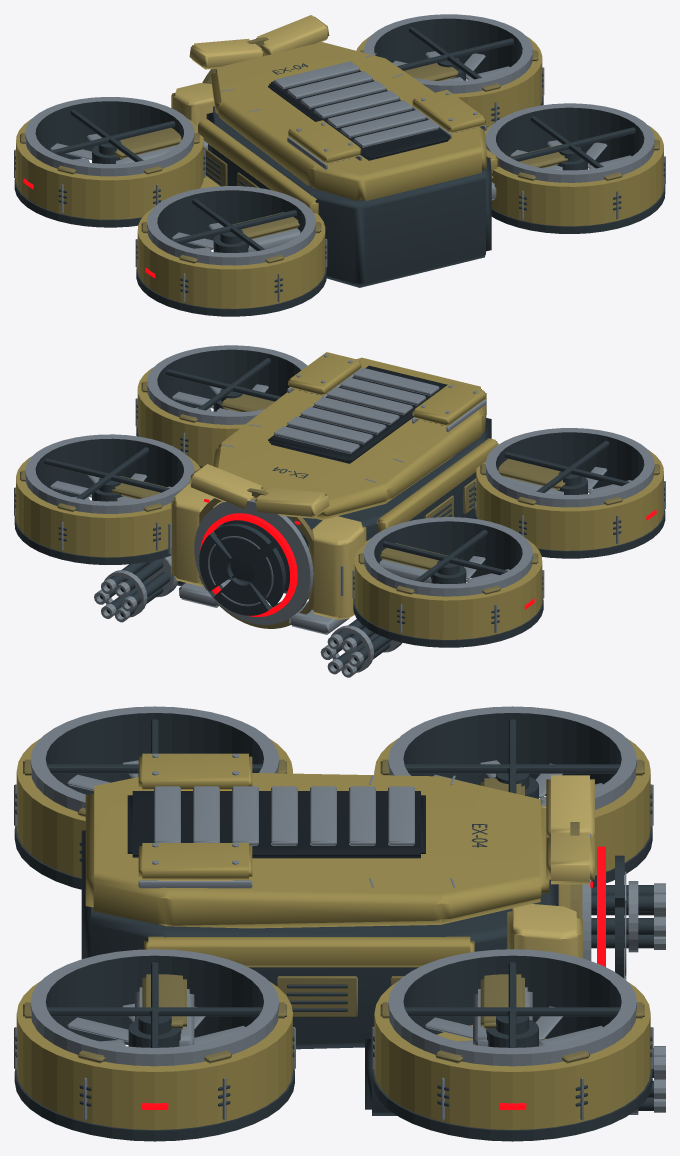
Rendered from exterminator-family.glb.
3 views of the same model, one above another, from view 1: azimuth 30°, elevation 25°; view 2: azimuth 150°, elevation 25°; view 3: azimuth 270°, elevation 25° (orthographic). The views are drawn at different scales.
Parts seen in each view (by area): view 1: EX_Chassis_EX_Armour, EX_Chassis_EX_Dark, EX_Fan_LB_EX_Armour, EX_Fan_RB_EX_Armour, EX_Fan_LF_EX_Armour, EX_Fan_RF_EX_Armour, EX_Chassis_EX_ArmourShade, EX_Fan_LB_EX_Dark, EX_Fan_RB_EX_Dark, EX_Chassis_EX_Rubber, EX_Fan_LF_EX_Dark, EX_Breakaway_L_EX_Armour (+17 smaller); view 2: EX_Chassis_EX_Armour, EX_Fan_LF_EX_Armour, EX_Fan_LB_EX_Armour, EX_Fan_RF_EX_Armour, EX_Fan_RB_EX_Armour, EX_Chassis_EX_Steel, EX_Chassis_EX_ArmourShade, EX_Cheek_-1_EX_ArmourLight, EX_Chassis_EX_Dark, EX_Fan_LF_EX_Dark, EX_Fan_RF_EX_Dark, EX_Chassis_EX_Rubber (+27 smaller); view 3: EX_Chassis_EX_Armour, EX_Fan_RB_EX_Armour, EX_Fan_RF_EX_Armour, EX_Fan_LF_EX_Armour, EX_Fan_LB_EX_Armour, EX_Chassis_EX_Dark, EX_Chassis_EX_Rubber, EX_Fan_RF_EX_Dark, EX_Fan_RB_EX_Dark, EX_Chassis_EX_ArmourShade, EX_Breakaway_R_EX_Armour, EX_Breakaway_L_EX_Armour (+26 smaller).
Boxes of the visible parts, x1,y1,x2,y2 form: EX_Chassis_EX_Armour: [198, 42, 498, 214]; EX_Chassis_EX_Dark: [205, 63, 491, 287]; EX_Fan_LB_EX_Armour: [137, 186, 325, 308]; EX_Fan_RB_EX_Armour: [485, 103, 663, 226]; EX_Fan_LF_EX_Armour: [16, 97, 203, 219]; EX_Fan_RF_EX_Armour: [356, 14, 542, 128]; EX_Chassis_EX_ArmourShade: [114, 37, 567, 239]; EX_Fan_LB_EX_Dark: [136, 198, 326, 316]; EX_Fan_RB_EX_Dark: [491, 116, 665, 233]; EX_Chassis_EX_Rubber: [268, 70, 450, 160]; EX_Fan_LF_EX_Dark: [14, 109, 204, 227]; EX_Breakaway_L_EX_Armour: [288, 120, 361, 163]; EX_Chassis_EX_Armour: [213, 357, 498, 532]; EX_Fan_LF_EX_Armour: [354, 517, 542, 639]; EX_Fan_LB_EX_Armour: [476, 428, 663, 550]; EX_Fan_RF_EX_Armour: [16, 434, 200, 557]; EX_Fan_RB_EX_Armour: [137, 345, 307, 466]; EX_Chassis_EX_Steel: [117, 369, 563, 634]; EX_Chassis_EX_ArmourShade: [112, 394, 565, 628]; EX_Cheek_-1_EX_ArmourLight: [308, 516, 366, 619]; EX_Chassis_EX_Dark: [216, 418, 491, 598]; EX_Fan_LF_EX_Dark: [353, 530, 543, 647]; EX_Fan_RF_EX_Dark: [14, 447, 171, 564]; EX_Chassis_EX_Rubber: [268, 365, 447, 463]; EX_Chassis_EX_Armour: [85, 773, 549, 967]; EX_Fan_RB_EX_Armour: [16, 949, 292, 1129]; EX_Fan_RF_EX_Armour: [374, 949, 650, 1129]; EX_Fan_LF_EX_Armour: [374, 706, 650, 875]; EX_Fan_LB_EX_Armour: [16, 706, 292, 877]; EX_Chassis_EX_Dark: [81, 824, 558, 1049]; EX_Chassis_EX_Rubber: [127, 791, 425, 858]; EX_Fan_RF_EX_Dark: [372, 962, 652, 1141]; EX_Fan_RB_EX_Dark: [14, 962, 294, 1141]; EX_Chassis_EX_ArmourShade: [142, 778, 579, 1029]; EX_Breakaway_R_EX_Armour: [138, 843, 252, 879]; EX_Breakaway_L_EX_Armour: [138, 753, 252, 790].
Size of the model in its own units: 15.77 by 4.57 by 12.03.
